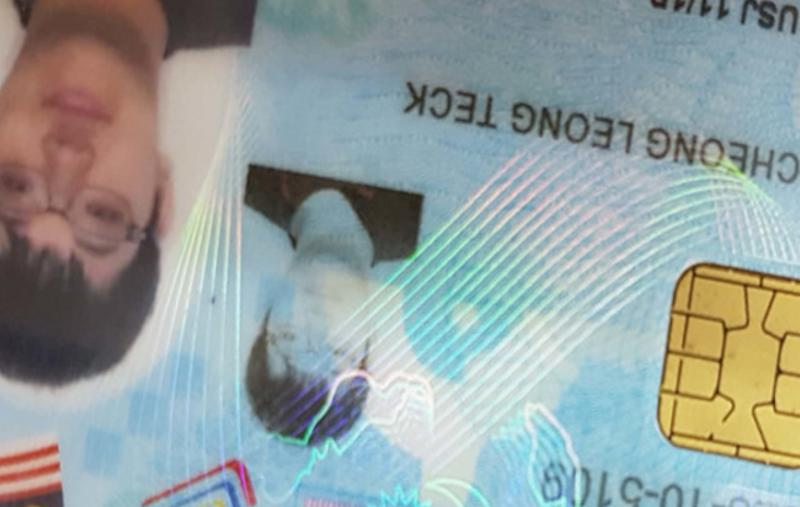hologram: (423, 160, 662, 379)
